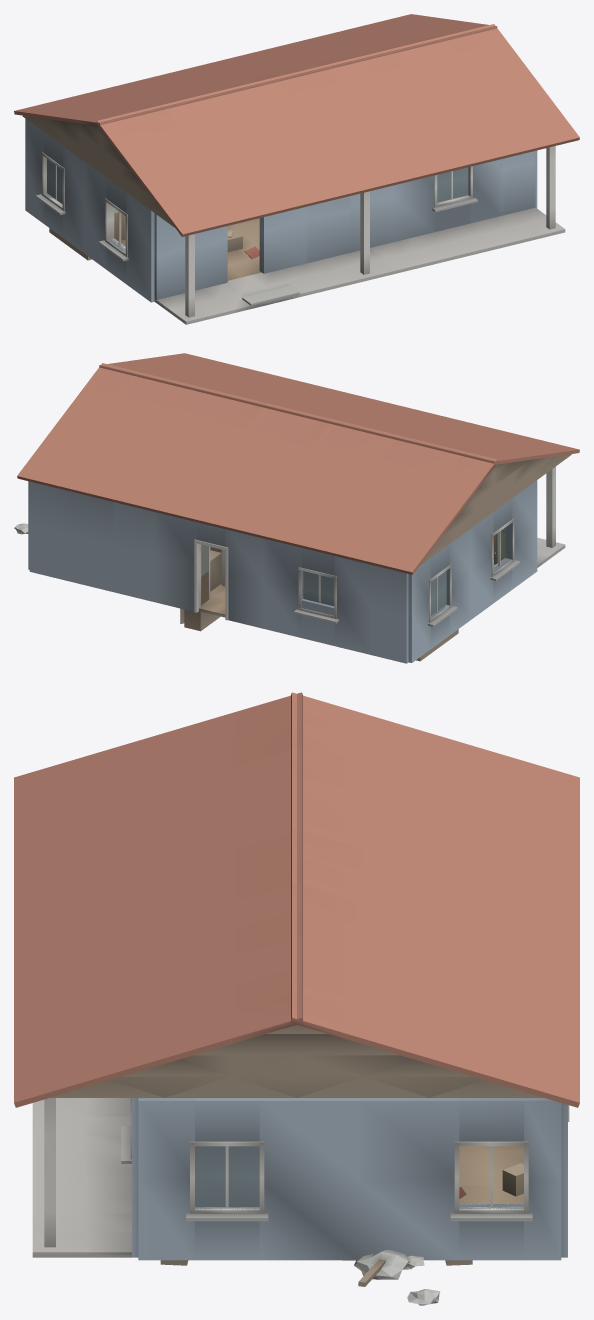
File: casa_r5.glb
3 views of the same model, one above another, from view 1: azimuth 30°, elevation 25°; view 2: azimuth 150°, elevation 25°; view 3: azimuth 270°, elevation 25° (orthographic). The views are drawn at different scales.
Visible parts, largest first — view 1: longe, ext, dentro, detalhe; view 2: longe, ext, detalhe, dentro, guarda_roupa_quarto2; view 3: longe, ext, dentro, detalhe.
Boxes of the visible parts, <box> form: longe: <box>14,14,579,236</box>; ext: <box>25,118,537,302</box>; dentro: <box>114,207,565,324</box>; detalhe: <box>35,146,555,317</box>; longe: <box>17,353,579,574</box>; ext: <box>28,480,537,663</box>; detalhe: <box>14,466,555,626</box>; dentro: <box>199,534,565,617</box>; guarda_roupa_quarto2: <box>180,550,221,631</box>; longe: <box>14,692,579,1107</box>; ext: <box>132,1098,567,1260</box>; dentro: <box>32,1098,523,1257</box>; detalhe: <box>44,1098,569,1305</box>.
Size of what is drawn, in the model's own units: 14.68 by 5.59 by 9.63.
